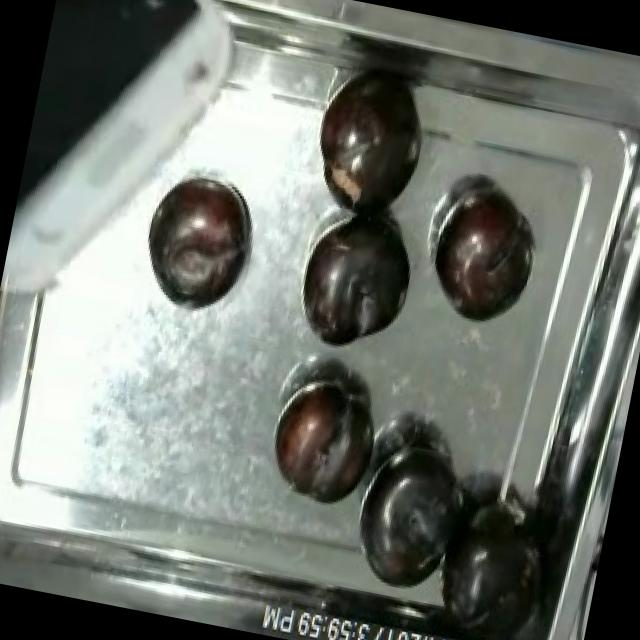Fruit: (343, 430, 482, 608), (126, 154, 272, 323), (286, 205, 426, 368), (298, 66, 436, 224), (416, 182, 547, 338), (259, 367, 387, 518), (41, 0, 220, 106)
